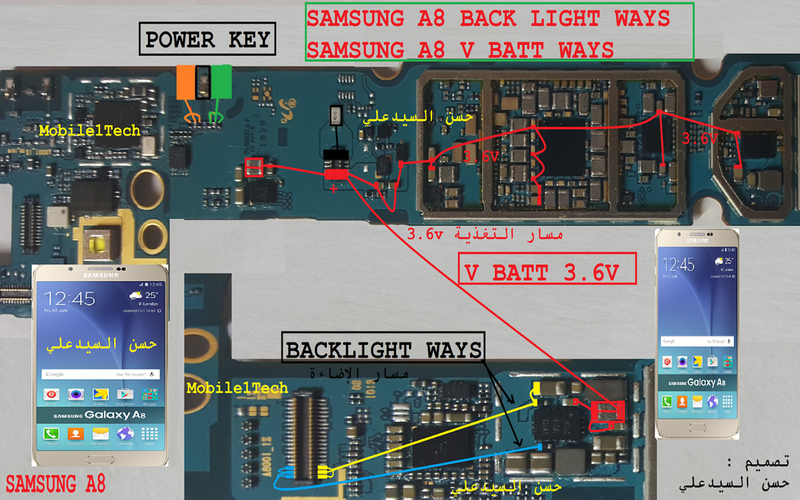Cirtuit-Board: (5, 56, 800, 271), (189, 305, 658, 500)
